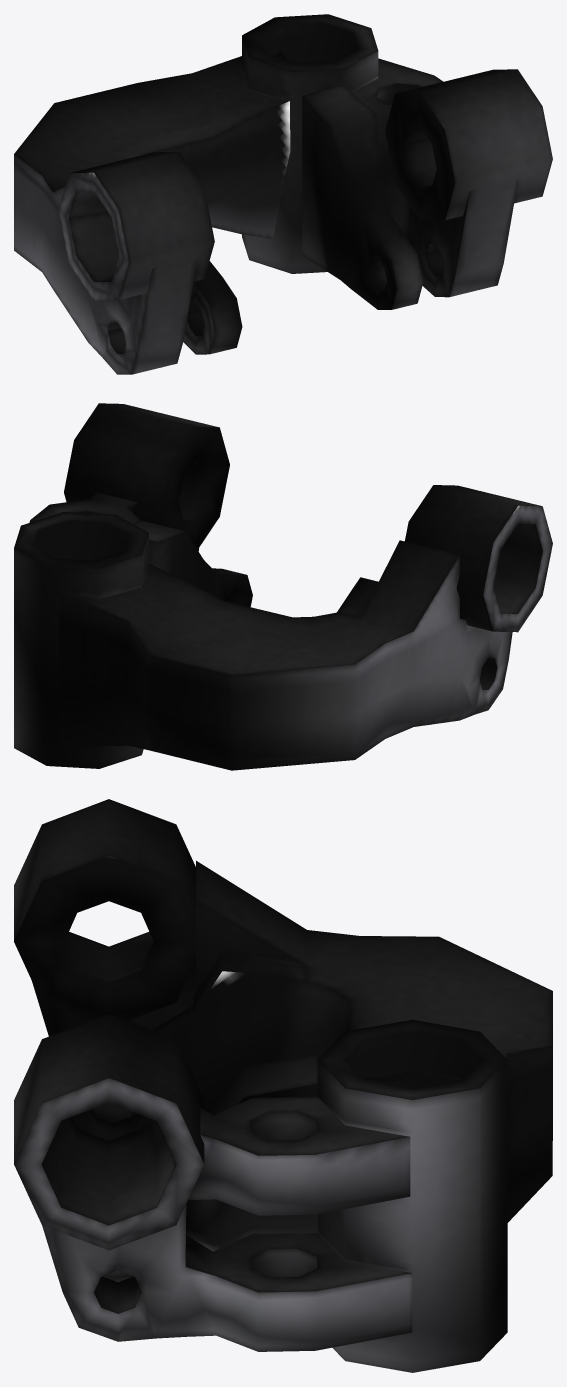
Rendered from r_lglut.obj.
3 views of the same model, one above another, from view 1: azimuth 30°, elevation 25°; view 2: azimuth 150°, elevation 25°; view 3: azimuth 270°, elevation 25° (orthographic). The views are drawn at different scales.
Visible parts, largest first — view 1: r_lglut; view 2: r_lglut; view 3: r_lglut.
Boxes of the visible parts, bbox=[...] form: r_lglut: bbox=[14, 14, 552, 374]; r_lglut: bbox=[14, 403, 552, 770]; r_lglut: bbox=[14, 799, 552, 1372].
Bounding box in the file's own units: 0.1439 × 0.0763 × 0.1175.
